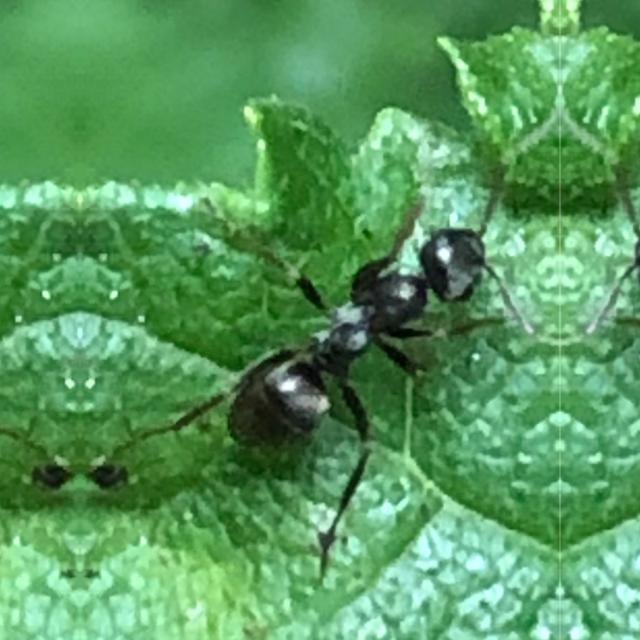Formica: (206, 180, 504, 520)
